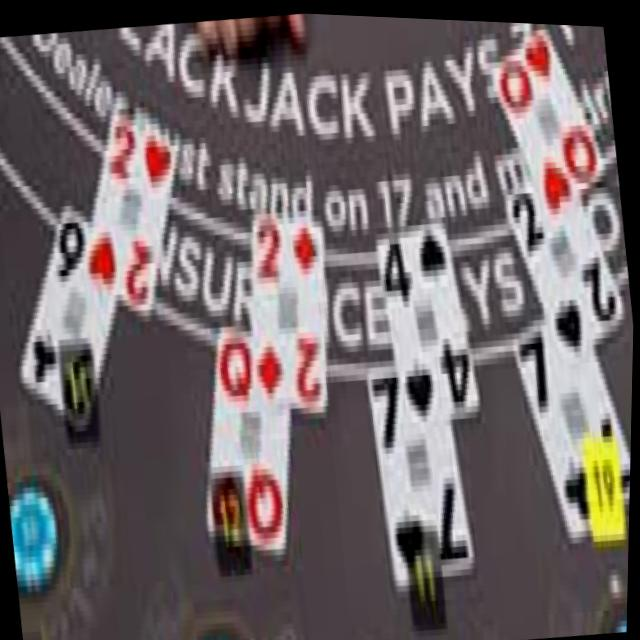Card-2: (506, 176, 626, 375), (89, 97, 178, 316), (252, 197, 328, 413)
Card-4: (376, 209, 482, 414)
Card-7: (513, 318, 633, 535), (368, 364, 477, 587)
Card-9: (22, 194, 117, 434)
Card-Q: (493, 19, 605, 227), (210, 316, 291, 554)
